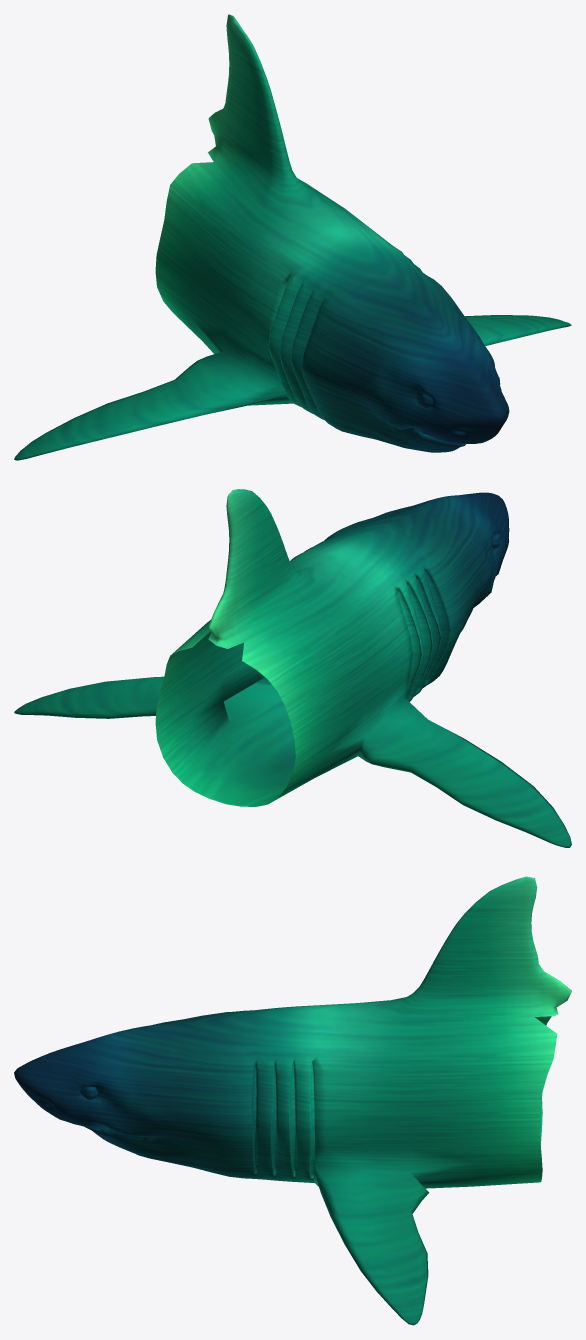
Rendered from cabeza.obj.
3 views of the same model, one above another, from view 1: azimuth 30°, elevation 25°; view 2: azimuth 150°, elevation 25°; view 3: azimuth 270°, elevation 25° (orthographic). The views are drawn at different scales.
Parts seen in each view (by area): view 1: obj_shark; view 2: obj_shark; view 3: obj_shark.
Part boxes in pixels (left/top/right/bottom): obj_shark: left=14, top=14, right=571, bottom=460; obj_shark: left=14, top=489, right=571, bottom=847; obj_shark: left=14, top=876, right=571, bottom=1325.
Size of the model in its own units: 61.19 by 35.02 by 55.53.
Materials: 1 (1 with a texture image).
